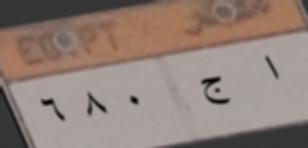0: (120, 88, 146, 117)
6: (40, 87, 71, 129)
8: (79, 90, 114, 122)
alif: (262, 50, 283, 89)
jeem: (198, 67, 230, 113)
